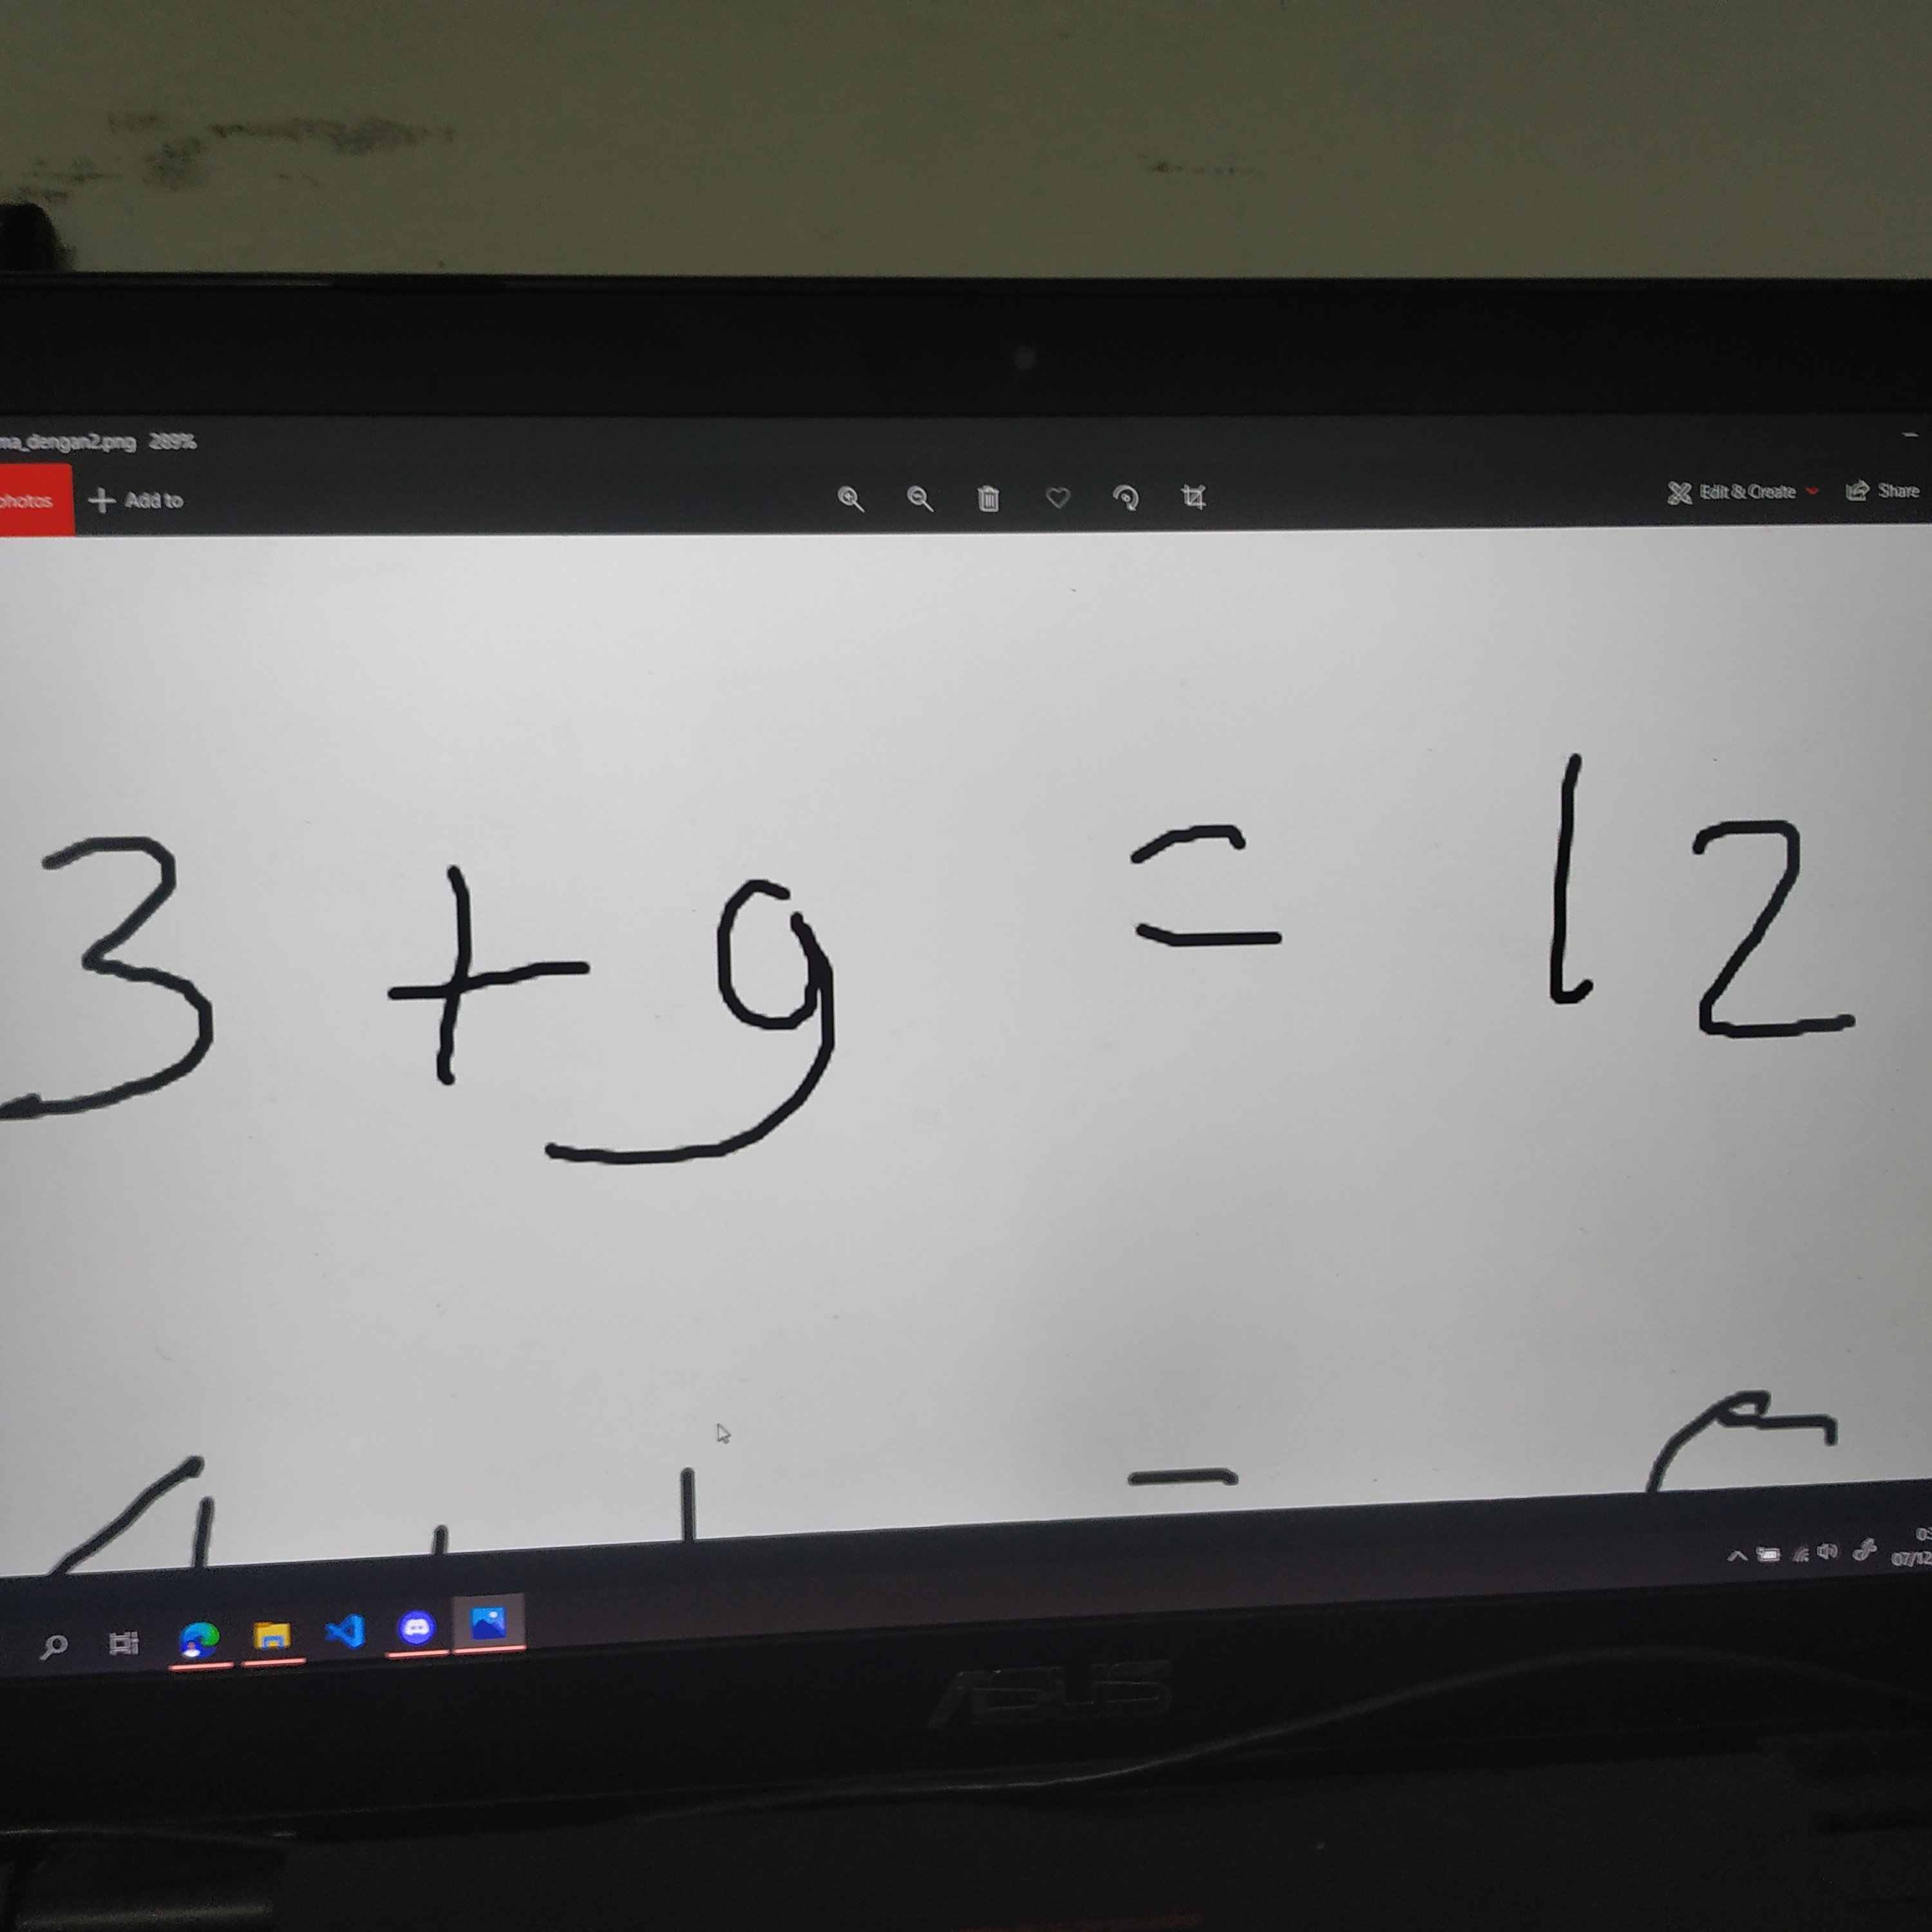equal: (1101, 789, 1301, 972)
num1: (1517, 746, 1627, 1024)
num2: (1672, 812, 1891, 1076)
num3: (6, 835, 243, 1149)
num9: (547, 846, 850, 1184)
sum: (362, 846, 611, 1105)
